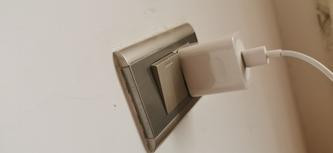switch: (152, 52, 187, 116)
